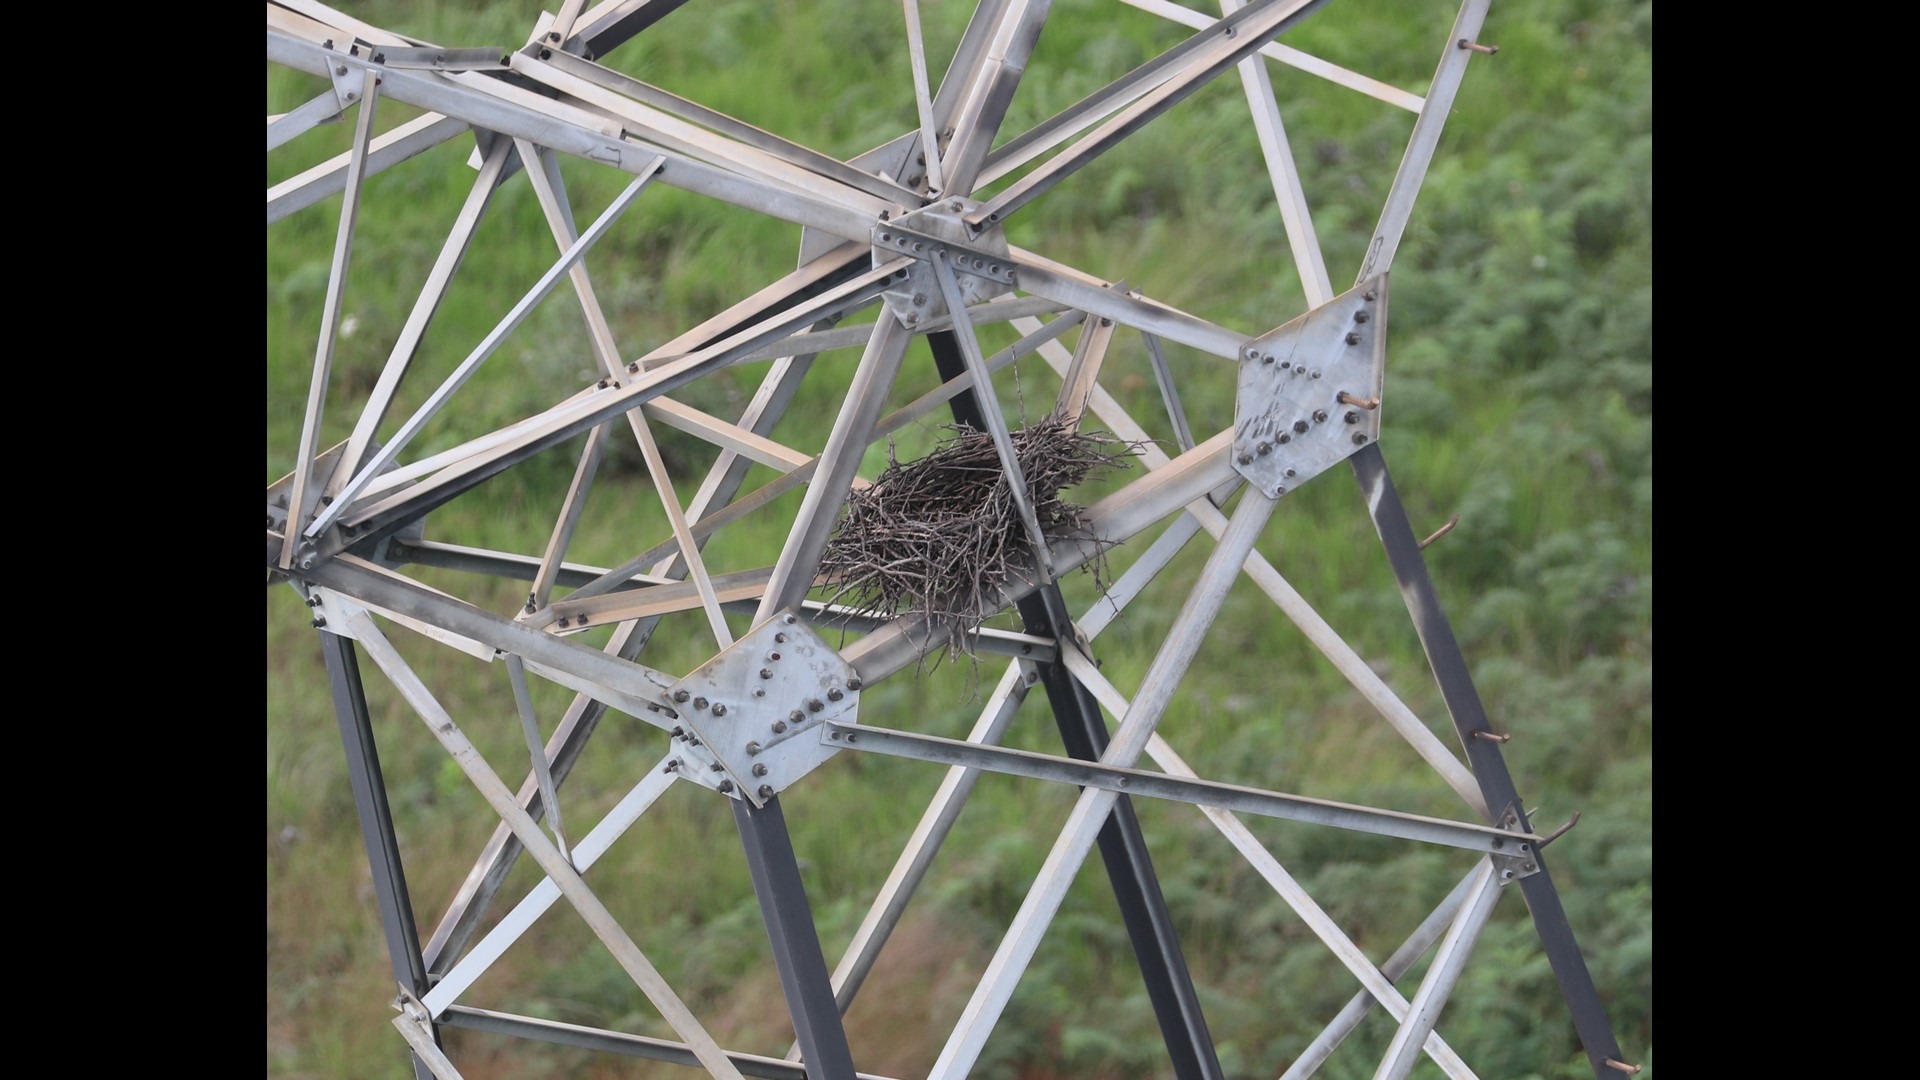niaowo: (814, 404, 1118, 645)
